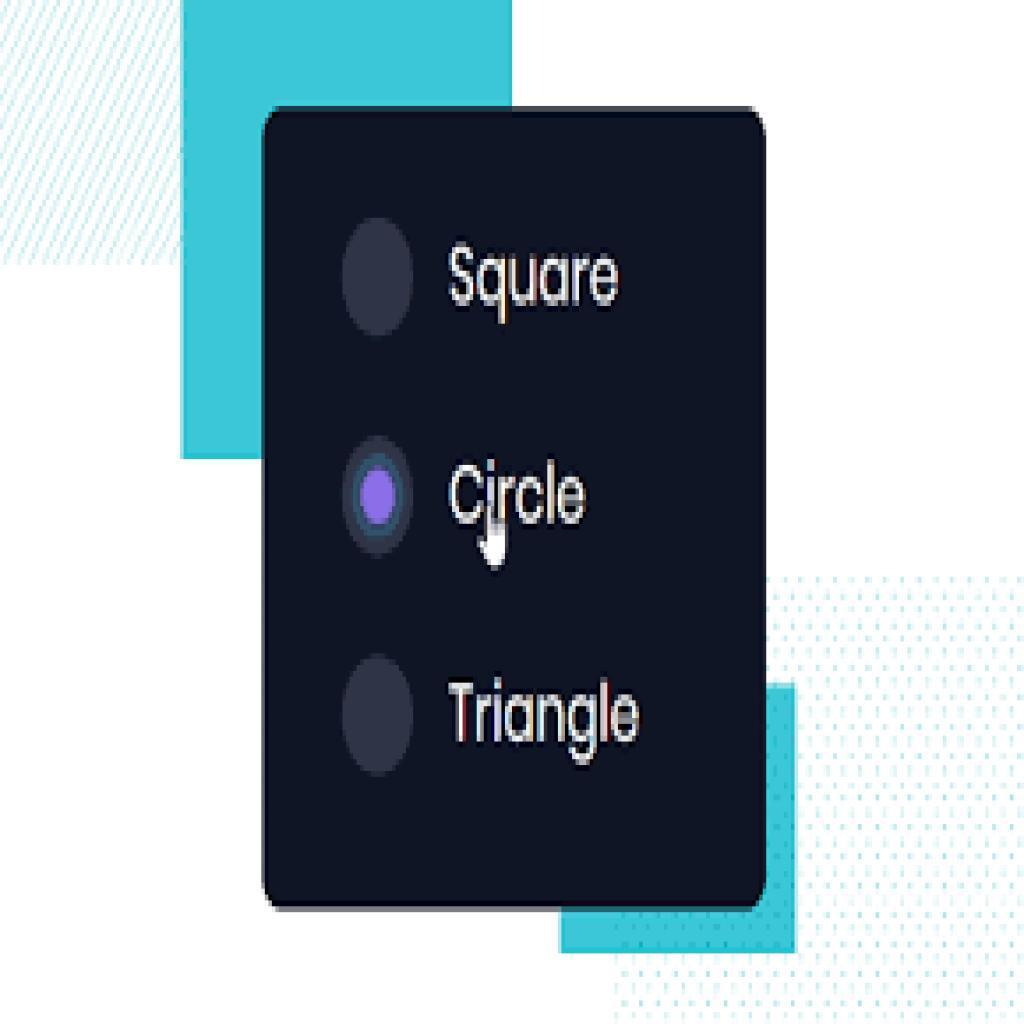radio: (334, 205, 419, 348), (340, 430, 423, 570), (337, 651, 422, 780)
